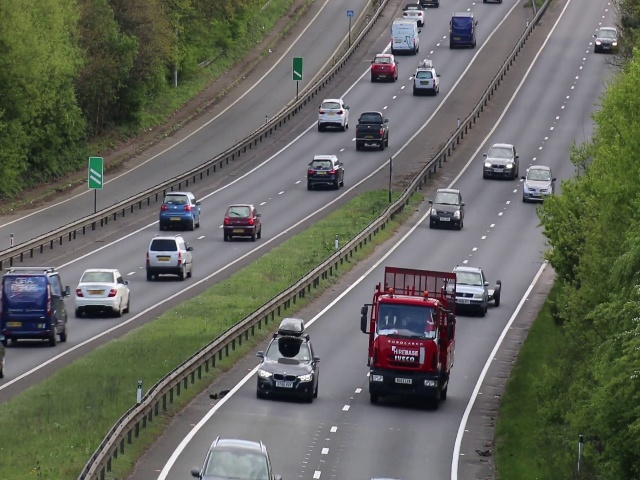car: (369, 292, 440, 404), (1, 271, 69, 347), (259, 334, 317, 402), (77, 267, 133, 318), (199, 441, 271, 480), (145, 235, 195, 281), (426, 186, 465, 230), (160, 191, 202, 230), (222, 202, 260, 243), (305, 153, 345, 191), (458, 266, 489, 315), (356, 111, 391, 151), (482, 141, 516, 178), (449, 10, 478, 52), (522, 168, 555, 204), (315, 100, 350, 131), (391, 22, 420, 54), (415, 62, 442, 96), (371, 53, 397, 82), (595, 25, 617, 54)
